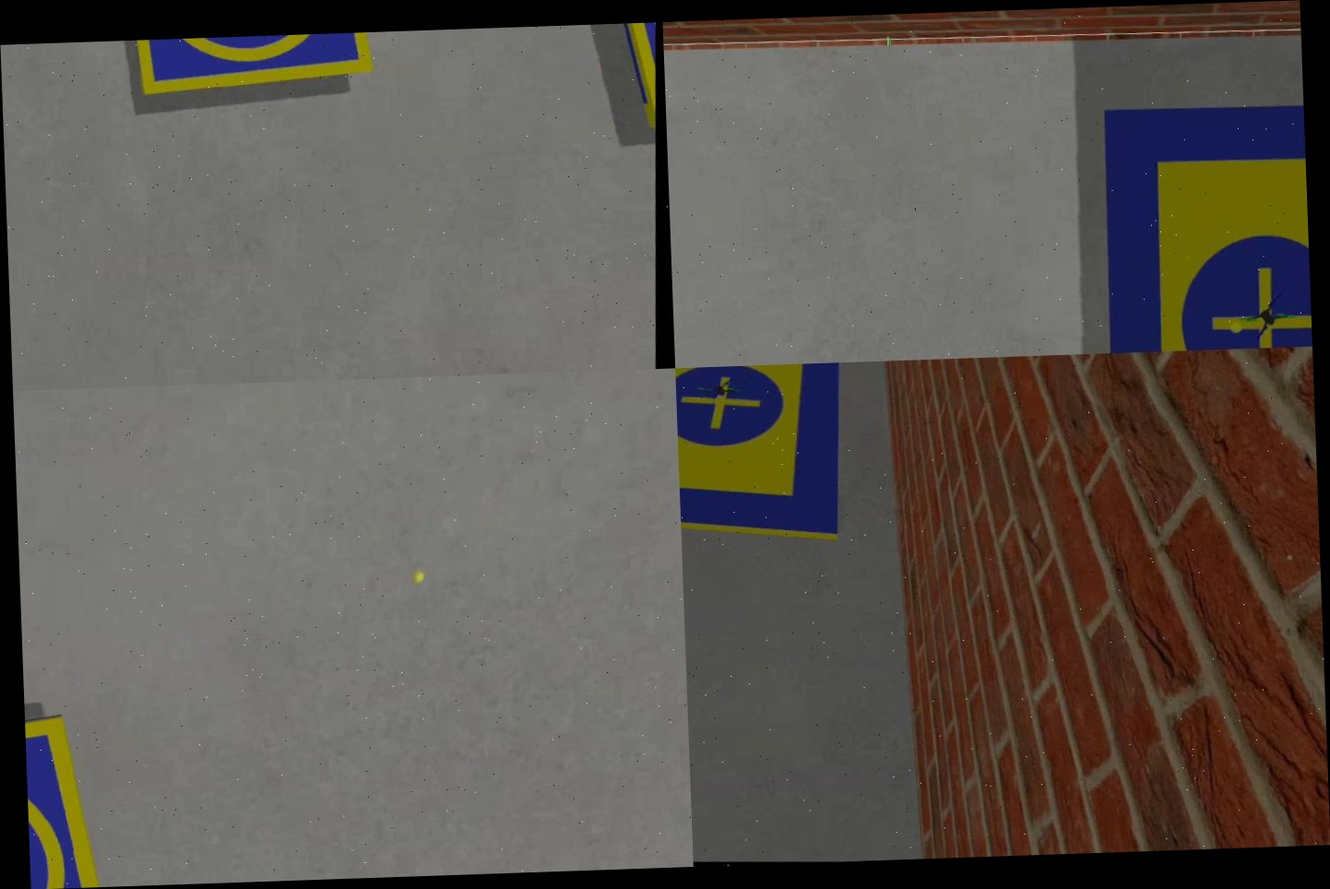large_base: (1088, 95, 1312, 354), (675, 362, 855, 550)
small_base: (113, 32, 378, 106), (596, 22, 667, 133)
